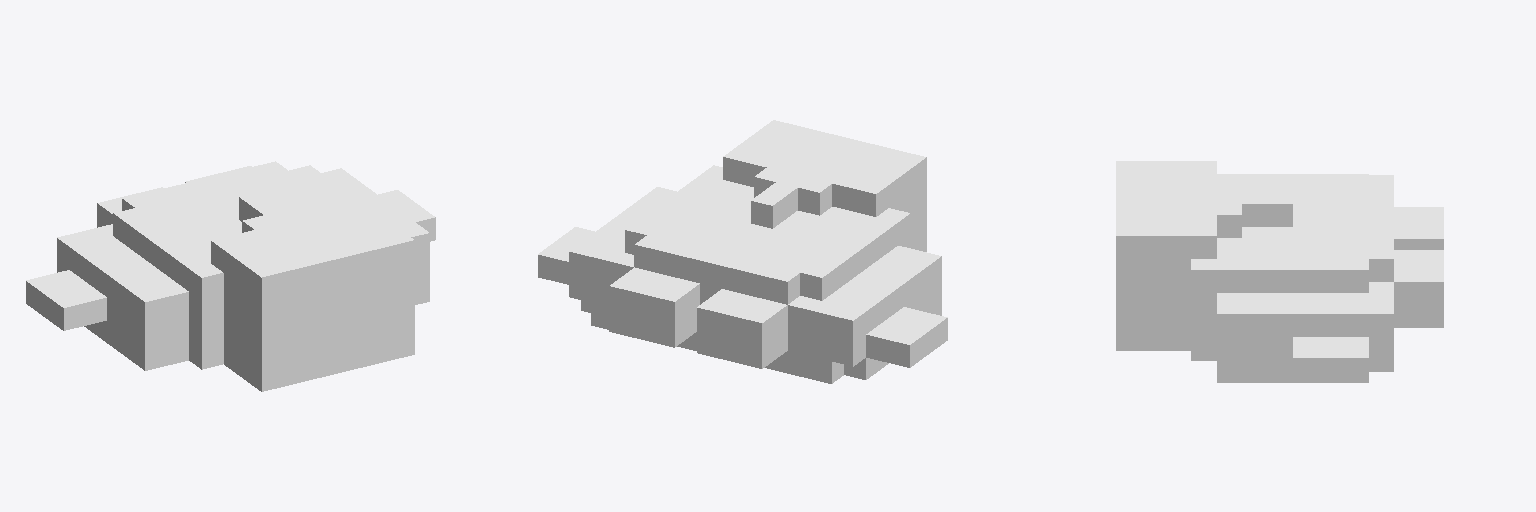
Rendered from Red.obj.
3 views of the same model, side by side, from view 1: azimuth 30°, elevation 25°; view 2: azimuth 150°, elevation 25°; view 3: azimuth 270°, elevation 25° (orthographic).
Visible parts, largest first — view 1: Red; view 2: Red; view 3: Red.
Part boxes in pixels (left/top/right/bottom): Red: left=26, top=161, right=435, bottom=391; Red: left=538, top=120, right=947, bottom=383; Red: left=1116, top=161, right=1443, bottom=382.
Bounding box in the file's own units: 17 × 5 × 13.